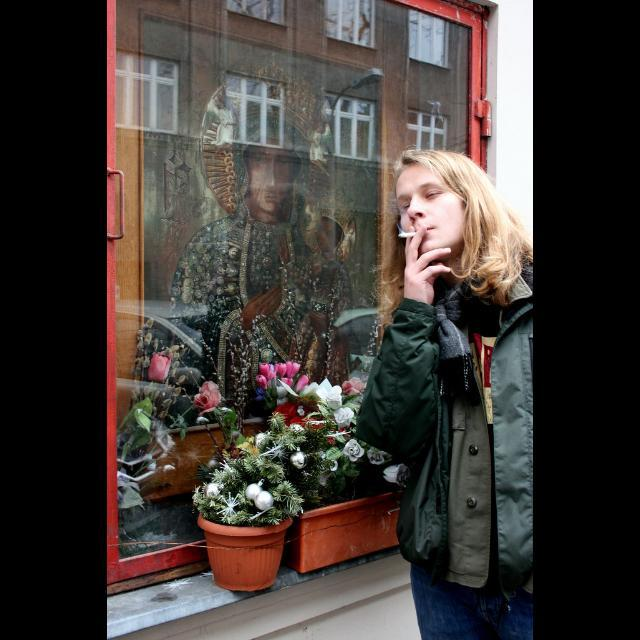rokok: (396, 228, 416, 242)
